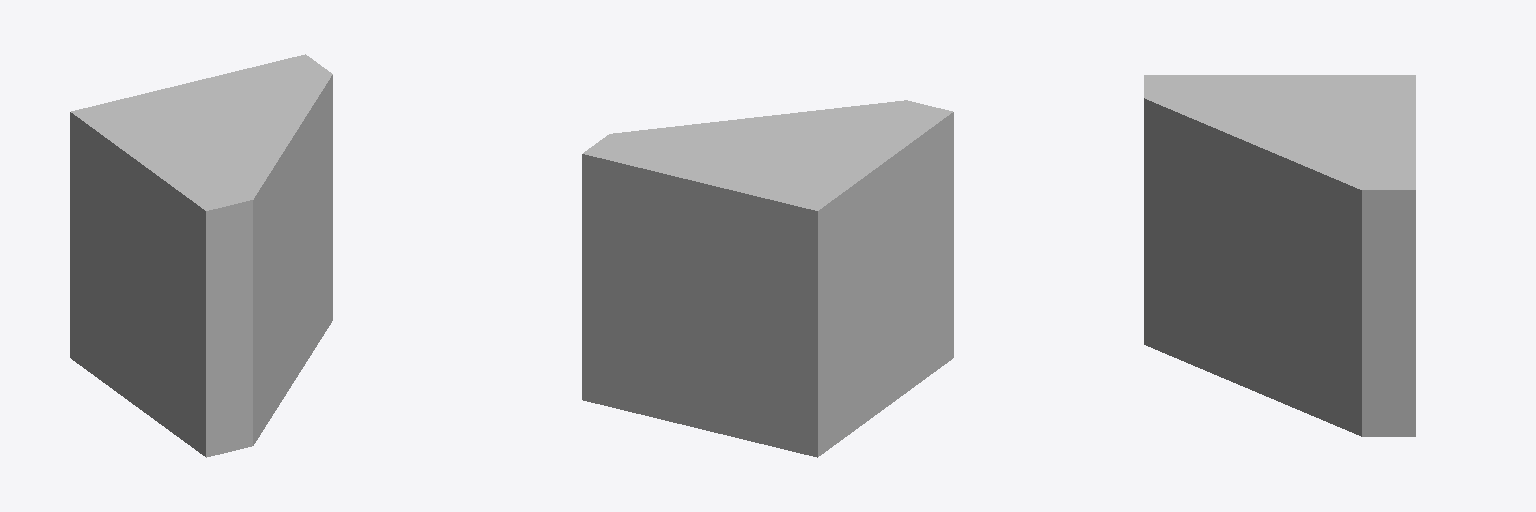
Rendered from Diagonal.obj.
The picture shows the model from 3 angles: view 1: azimuth 30°, elevation 25°; view 2: azimuth 150°, elevation 25°; view 3: azimuth 270°, elevation 25°; orthographic projection.
Visible parts, largest first — view 1: Diagonal; view 2: Diagonal; view 3: Diagonal.
Part boxes in pixels (bbox=[...]): Diagonal: bbox=[70, 54, 332, 457]; Diagonal: bbox=[582, 100, 953, 457]; Diagonal: bbox=[1144, 75, 1415, 436].
Size of the model in its own units: 1 by 1 by 1.